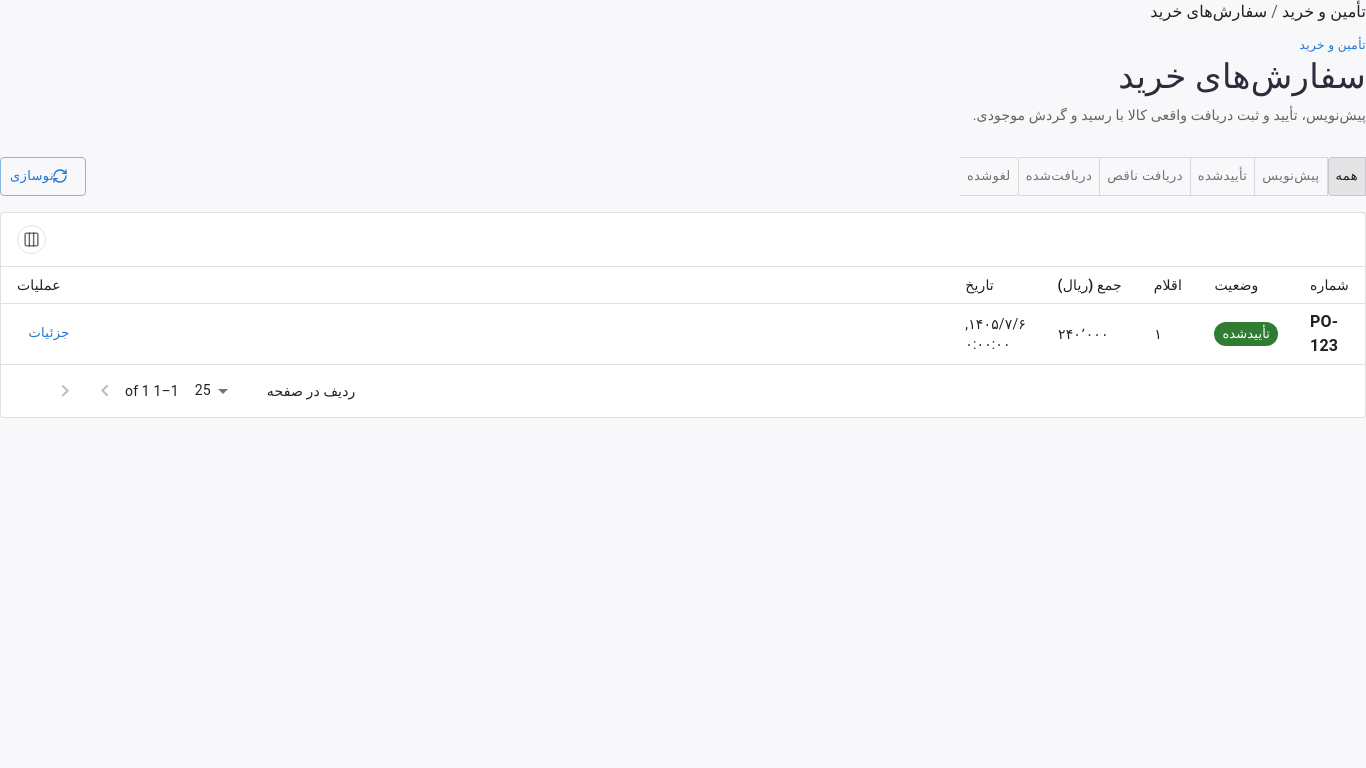
it: PurchaseOrdersView › shows persisted receipts and gates receiving by dedicated permission
This screenshot has width=1366, height=768.
Expected: the text "PO-123" is shown, [1310,312,1338,355]
Click the button "جزئیات" at (49, 334), box [17,318,81,349]
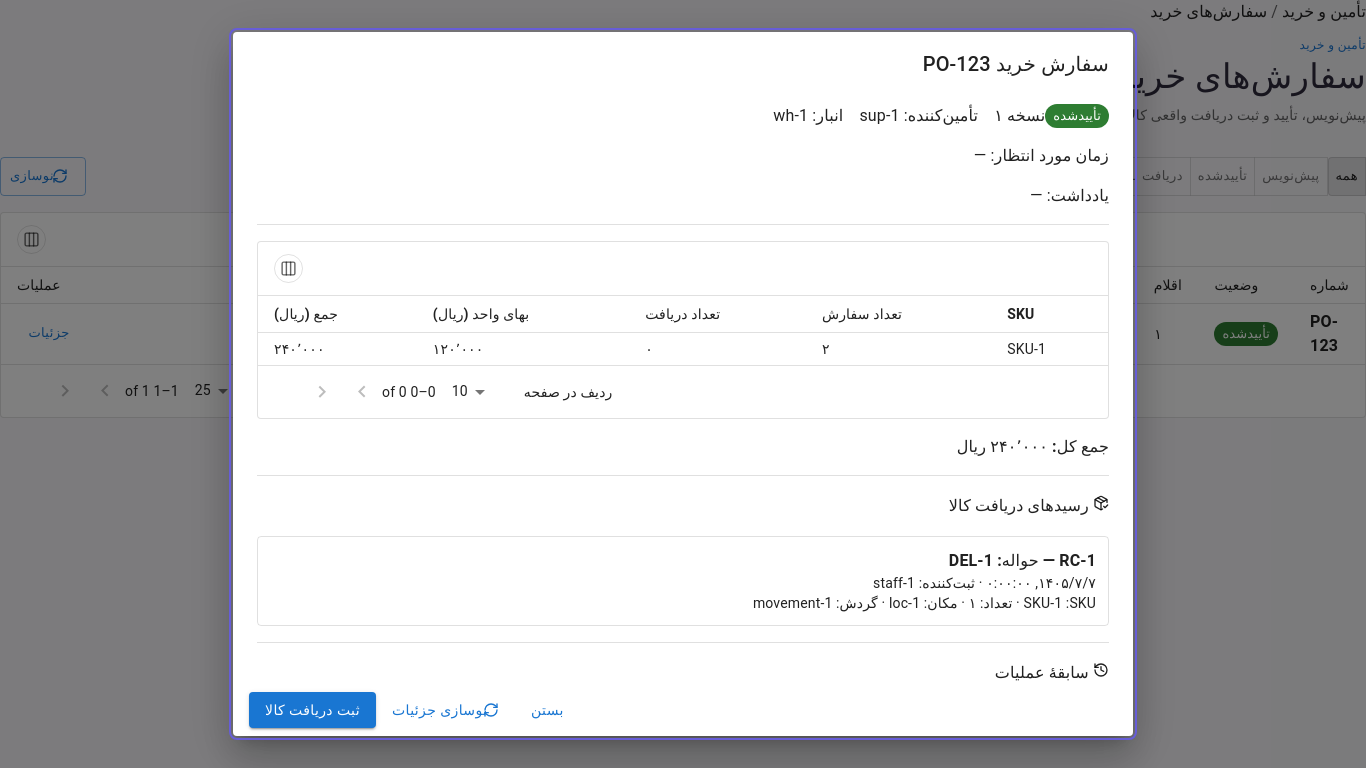
Result: the text "DEL-1" is shown at [949,551,993,570]
Result: the text "movement-1" is shown at [753,595,832,611]
Result: the button "ثبت دریافت کالا" is shown at [249,692,376,728]
